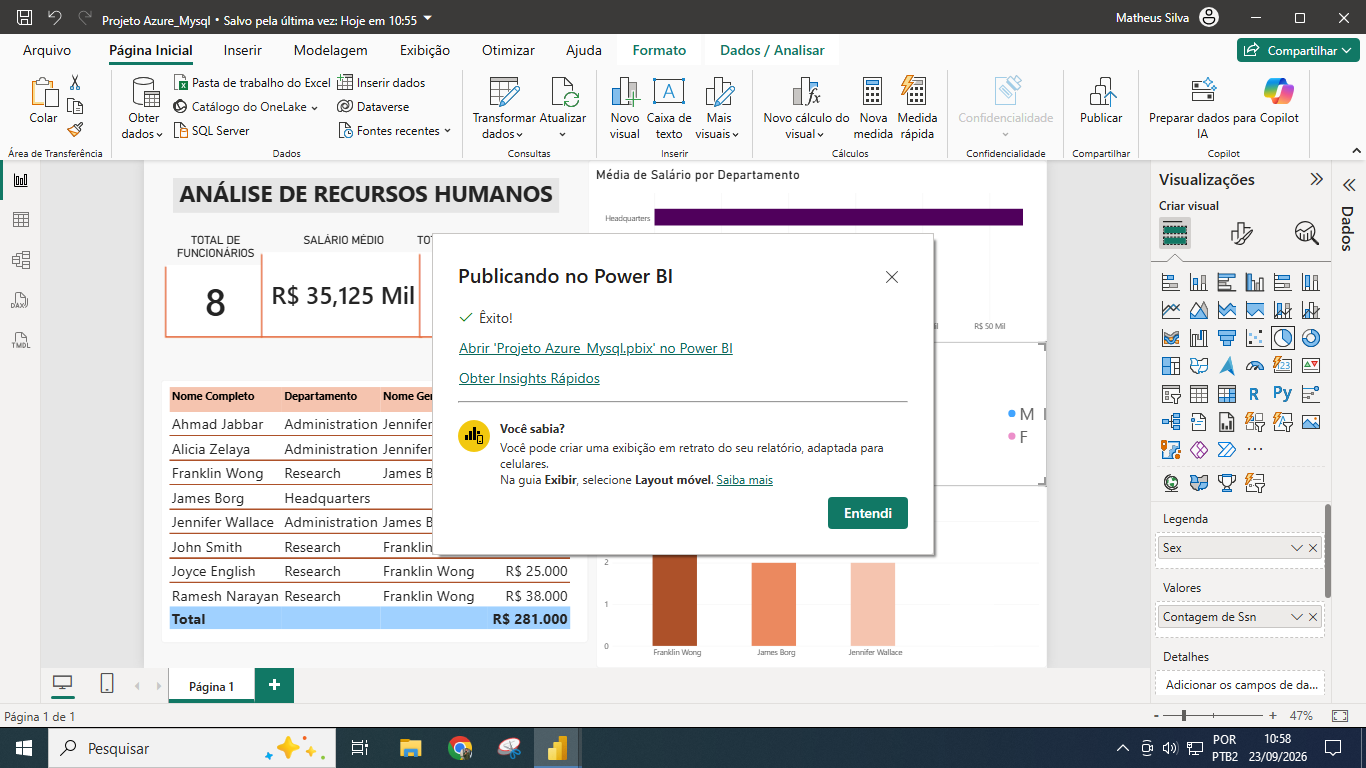

What the dashboard file says about the page in this screenshot:
{"tool":"powerbi","page":{"name":"Página 1","canvas":[1920,1080],"ordinal":0},"visuals":[{"type":"cardVisual","title":"TOTAL DE FUNCIONÁRIOS","fields":{"Data":["CountNonNull(employee.Ssn)"]},"box":[36.1,157.3,231.7,229.6],"z":0},{"type":"cardVisual","title":"SALÁRIO MÉDIO","fields":{"Data":["Avg(employee.Salary)"]},"box":[240.2,157.3,367.8,229.6],"z":1000},{"type":"cardVisual","title":"TOTAL DE HORAS TRABALHADAS","fields":{"Data":["Sum(works_on.Hours)"]},"box":[576.1,157.3,367.8,229.6],"z":2000},{"type":"pieChart","title":"Contagem de Funcionários por Sexo","fields":{"Category":["employee.Sex"],"Y":["CountNonNull(employee.Ssn)"]},"box":[943.9,386.9,975.8,306.1],"z":2001},{"type":"clusteredBarChart","title":"Média de Salário por Departamento","fields":{"Category":["employee.Departamento"],"Y":["Avg(employee.Salary)"]},"box":[943.9,0,975.8,386.9],"z":2002},{"type":"clusteredColumnChart","title":"Colaboradores por Gerente","fields":{"Category":["Employee por Gerente.Nome Gerente"],"Y":["Sum(Employee por Gerente.Qtd Colaboradores)"]},"box":[960.9,693.1,958.8,386.9],"z":2003},{"type":"tableEx","fields":{"Values":["employee.Nome Completo","employee.Departamento","employee.Nome Gerente","Sum(employee.Salary)"]},"box":[36.1,467.7,907.8,559.1],"z":2004},{"type":"textbox","box":[61.7,38.3,820.6,74.4],"z":2005}]}

Visuals, with their boxes on the page's 1920x1080 design canvas (x1, y1, x2, y2). These are canvas units, not pixel positions in the 1366x768 screenshot, which may show the page scaled, cropped or inside an application window:
"TOTAL DE FUNCIONÁRIOS" cardVisual: box(36, 157, 268, 387)
"SALÁRIO MÉDIO" cardVisual: box(240, 157, 608, 387)
"TOTAL DE HORAS TRABALHADAS" cardVisual: box(576, 157, 944, 387)
"Contagem de Funcionários por Sexo" pieChart: box(944, 387, 1920, 693)
"Média de Salário por Departamento" clusteredBarChart: box(944, 0, 1920, 387)
"Colaboradores por Gerente" clusteredColumnChart: box(961, 693, 1920, 1080)
tableEx - employee.Nome Completo x employee.Departamento: box(36, 468, 944, 1027)
textbox: box(62, 38, 882, 113)
